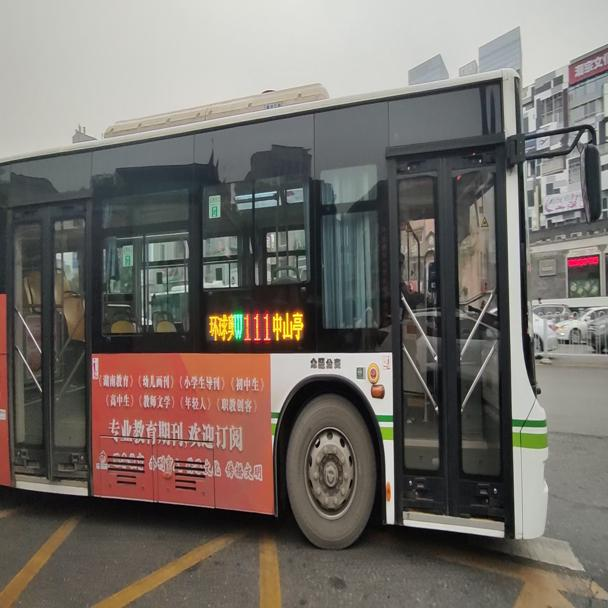bus: (2, 64, 598, 544)
screen: (243, 307, 271, 342)
